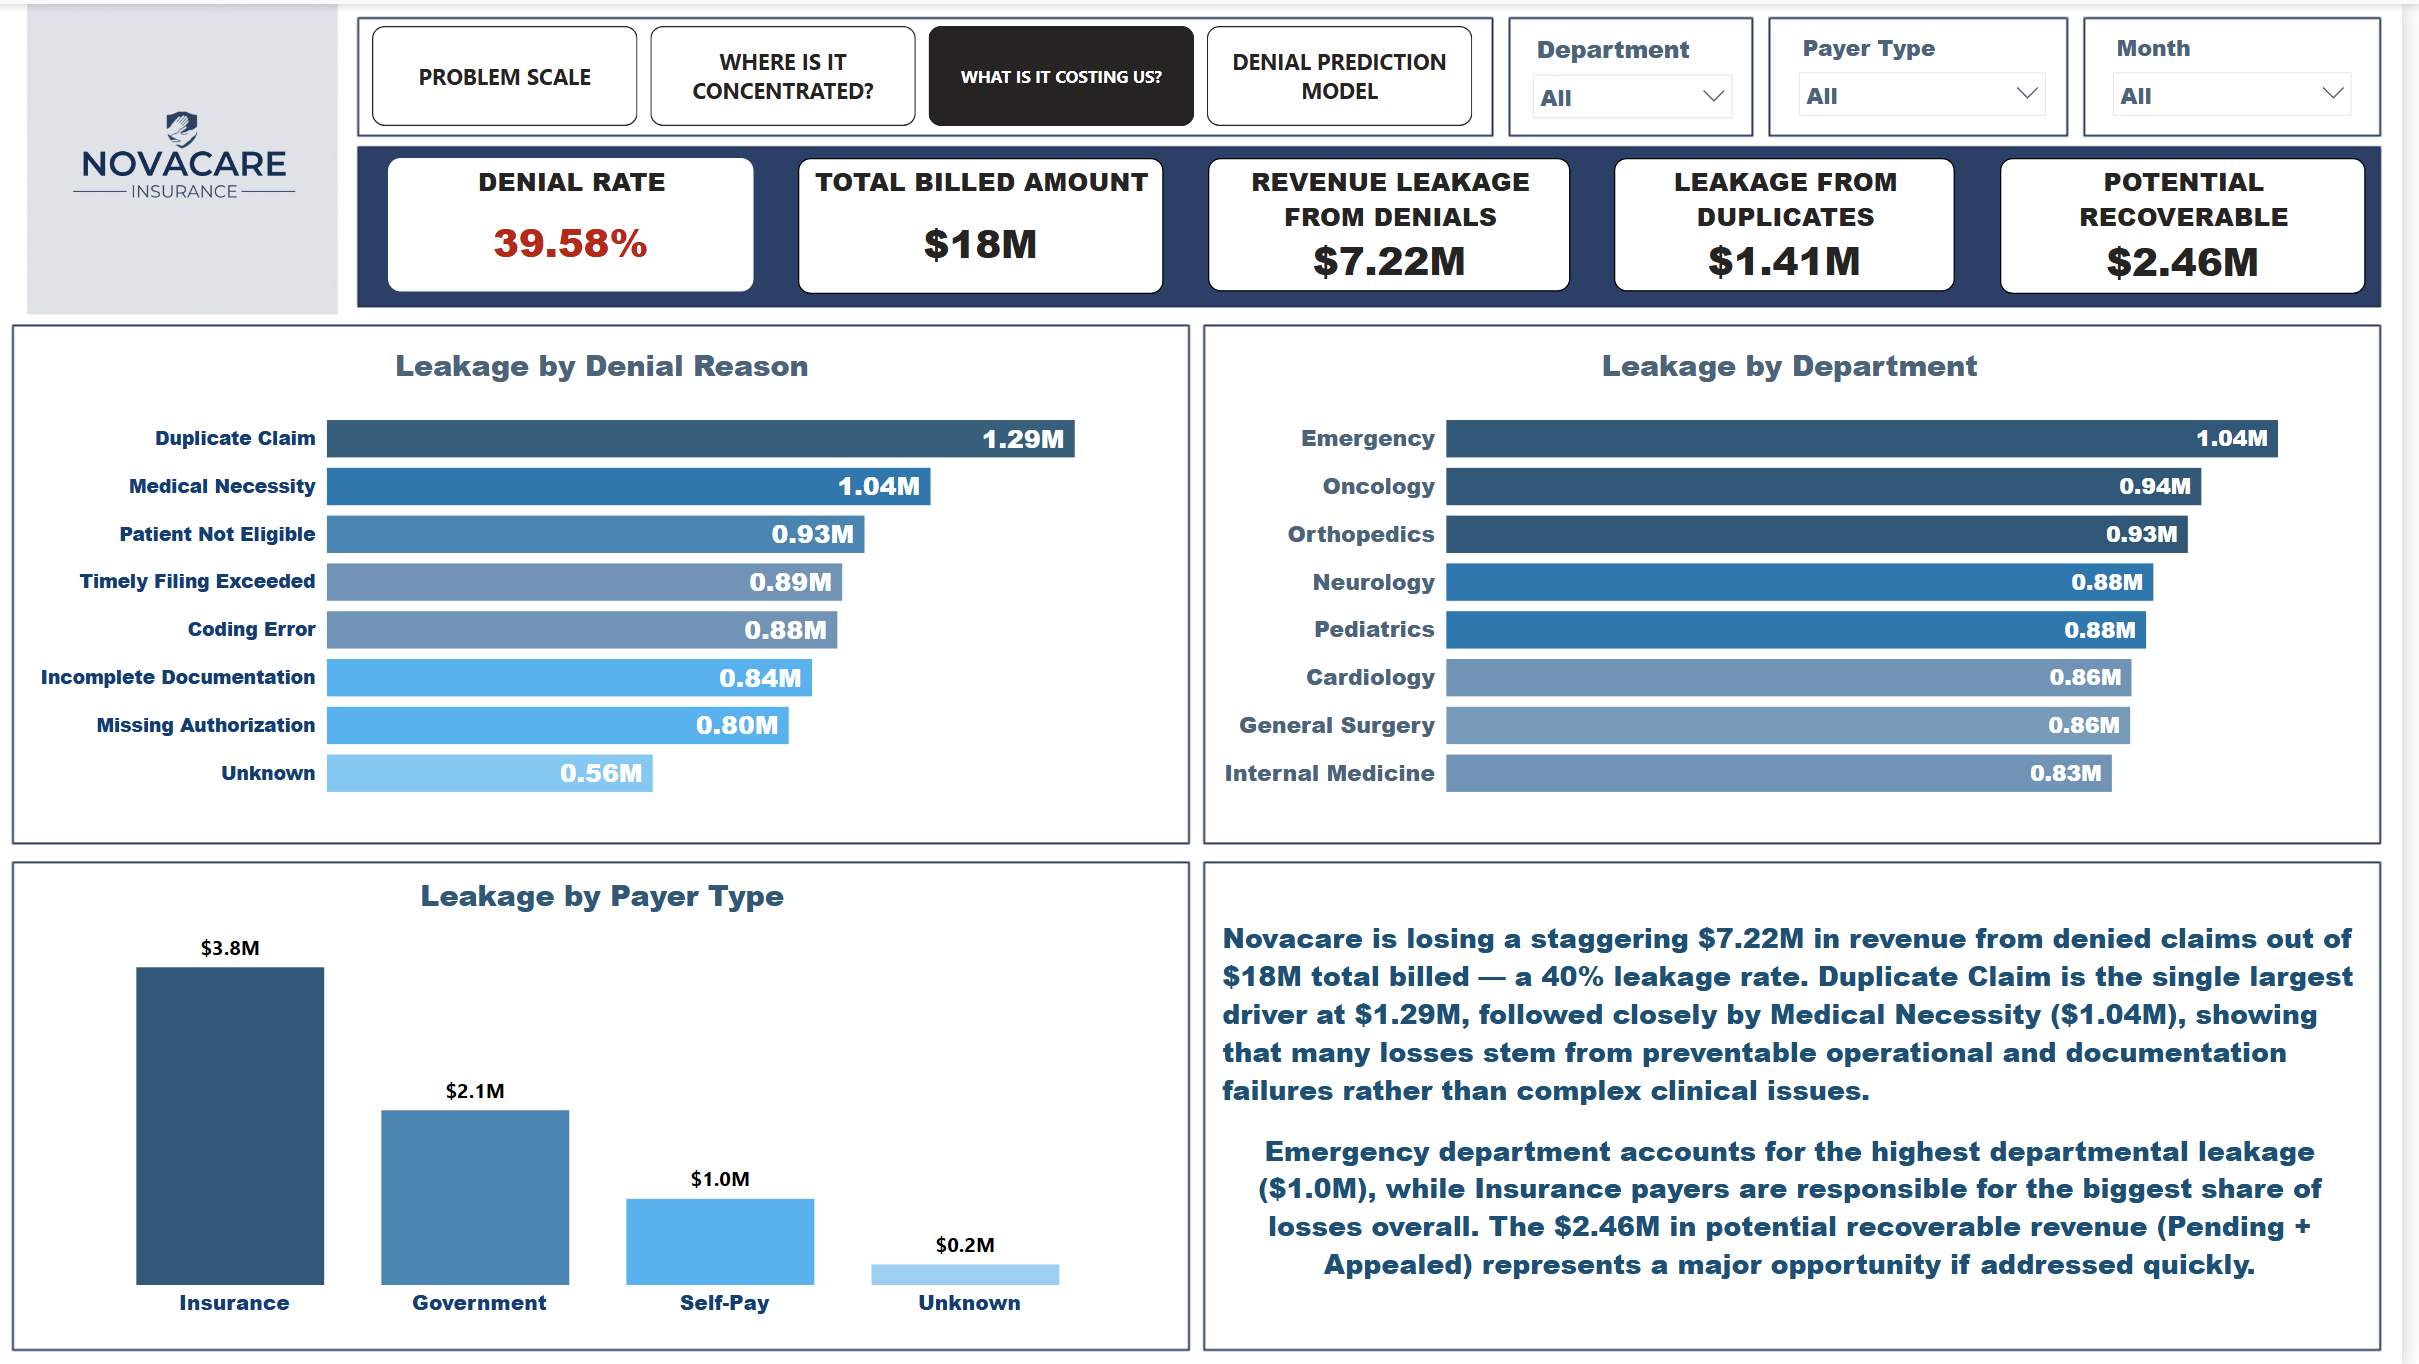

The page's visual inventory and layout, read from the dashboard file:
{"tool":"powerbi","page":{"name":"WHAT IS IT COSTING US?","canvas":[1920,1080],"ordinal":2},"visuals":[{"type":"card","title":"TOTAL BILLED AMOUNT","fields":{"Values":["claims output.Total Billed Amount"]},"box":[651.3,121.1,288.8,107.7],"z":0},{"type":"card","title":"REVENUE LEAKAGE FROM DENIALS","fields":{"Values":["claims output.Revenue Leakage from Denials"]},"box":[975.1,122.2,286.6,105.6],"z":1000},{"type":"card","title":"LEAKAGE FROM DUPLICATES","fields":{"Values":["claims output.Leakage from Duplicate"]},"box":[1296.7,122.2,269.4,105.6],"z":2000},{"type":"card","title":"POTENTIAL RECOVERABLE","fields":{"Values":["claims output.Potential Recoverable"]},"box":[1601.1,121.1,288.8,107.7],"z":3000},{"type":"clusteredBarChart","title":"Leakage by Denial Reason","fields":{"Category":["claims output.denial_reason"],"Y":["claims output.Revenue Leakage from Denials"]},"box":[45.3,269.4,900.7,374.9],"z":4000},{"type":"clusteredColumnChart","title":"Leakage by Payer Type","fields":{"Y":["claims output.Revenue Leakage from Denials"],"Category":["claims output.payer_type"]},"box":[45.2,687.7,901.2,361.9],"z":5000},{"type":"clusteredBarChart","title":" Leakage by Department","fields":{"Category":["claims output.department"],"Y":["claims output.Revenue Leakage from Denials"]},"box":[982.6,269.4,907.2,374.9],"z":6000},{"type":"textbox","box":[982.6,717.6,907.2,331.9],"z":7000},{"type":"slicer","fields":{"Values":["claims output.department"]},"box":[1222,17.2,177.8,80.3],"z":8000},{"type":"slicer","fields":{"Values":["claims output.payer_type"]},"box":[1433,17.2,215.5,77.6],"z":9000},{"type":"slicer","fields":{"Values":["claims output.claim_submission_date.Variation.Date Hierarchy.Month"]},"box":[1680.8,17.2,209,77.6],"z":10000},{"type":"image","box":[30.2,0,269.4,245.7],"z":11000},{"type":"card","title":"DENIAL RATE","fields":{"Values":["claims output.Denial Rate %"]},"box":[327.5,122.2,288.8,105.6],"z":12000},{"type":"pageNavigator","box":[314.7,17.5,872.2,79.6],"z":13000}]}

Visuals, with their boxes in screenshot pixels (x1, y1, x2, y2), scaled from the page's 1920x1080 canvas onto the 2419x1364 screenshot:
"TOTAL BILLED AMOUNT" card: {"left": 821, "top": 153, "right": 1184, "bottom": 289}
"REVENUE LEAKAGE FROM DENIALS" card: {"left": 1229, "top": 154, "right": 1590, "bottom": 288}
"LEAKAGE FROM DUPLICATES" card: {"left": 1634, "top": 154, "right": 1973, "bottom": 288}
"POTENTIAL RECOVERABLE" card: {"left": 2017, "top": 153, "right": 2381, "bottom": 289}
"Leakage by Denial Reason" clusteredBarChart: {"left": 57, "top": 340, "right": 1192, "bottom": 814}
"Leakage by Payer Type" clusteredColumnChart: {"left": 57, "top": 869, "right": 1192, "bottom": 1326}
" Leakage by Department" clusteredBarChart: {"left": 1238, "top": 340, "right": 2381, "bottom": 814}
textbox: {"left": 1238, "top": 906, "right": 2381, "bottom": 1325}
slicer - claims output.department: {"left": 1540, "top": 22, "right": 1764, "bottom": 123}
slicer - claims output.payer_type: {"left": 1805, "top": 22, "right": 2077, "bottom": 120}
slicer - claims output.claim_submission_date.Variation.Date Hierarchy.Month: {"left": 2118, "top": 22, "right": 2381, "bottom": 120}
image: {"left": 38, "top": 0, "right": 377, "bottom": 310}
"DENIAL RATE" card: {"left": 413, "top": 154, "right": 776, "bottom": 288}
pageNavigator: {"left": 396, "top": 22, "right": 1495, "bottom": 123}
